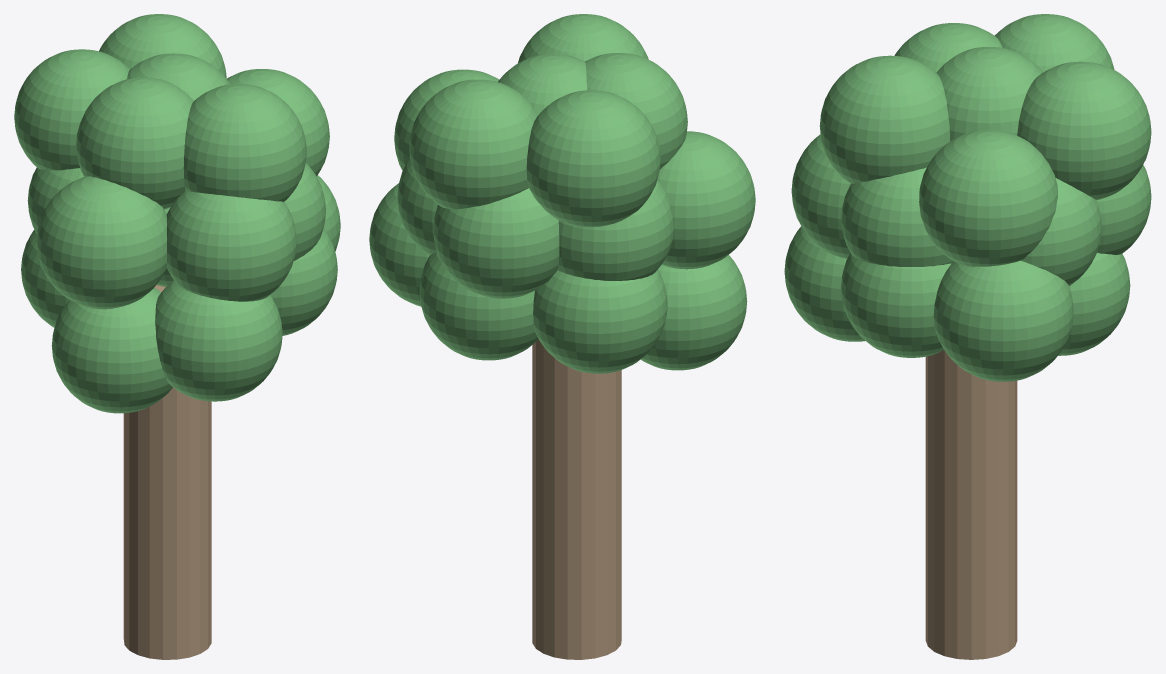
File: Copy of tree tree tree.glb
3 renders of one model, left to right at view 1: azimuth 30°, elevation 25°; view 2: azimuth 150°, elevation 25°; view 3: azimuth 270°, elevation 25°, orthographic. The views are drawn at different scales.
Parts seen in each view (by area): view 1: Mesh_Mesh_head_geo.001_lambert2SG.001; view 2: Mesh_Mesh_head_geo.001_lambert2SG.001; view 3: Mesh_Mesh_head_geo.001_lambert2SG.001.
Part boxes in pixels (x1=…): Mesh_Mesh_head_geo.001_lambert2SG.001: x1=14, y1=14, x2=340, y2=659; Mesh_Mesh_head_geo.001_lambert2SG.001: x1=369, y1=14, x2=755, y2=659; Mesh_Mesh_head_geo.001_lambert2SG.001: x1=784, y1=14, x2=1151, y2=659.
Bounding box in the file's own units: 55 × 93 × 52.
